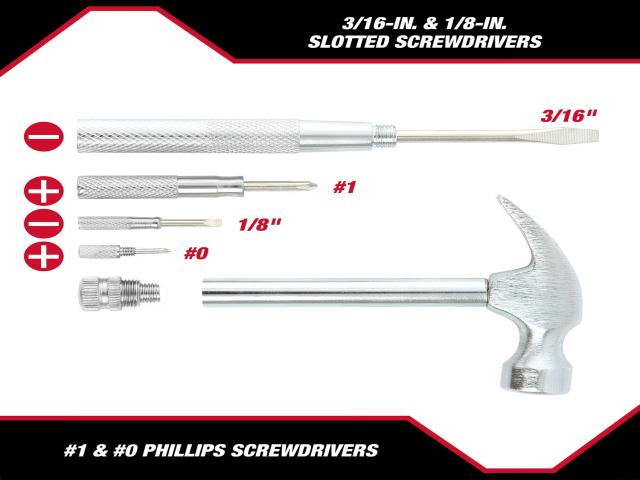Hammer: (202, 196, 582, 395)
Screwdriver: (78, 119, 599, 153), (78, 175, 318, 199), (78, 217, 221, 230), (79, 245, 171, 259)
